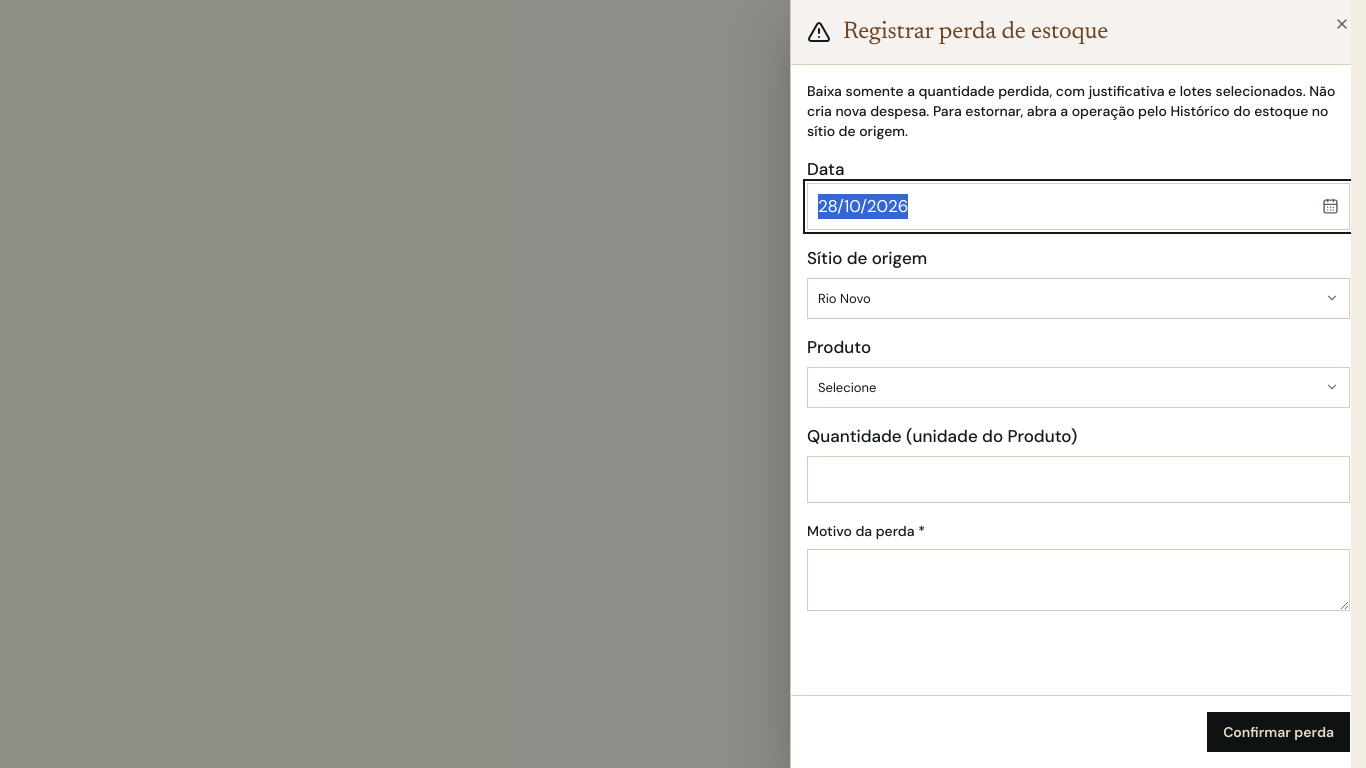
Test: perda de estoque › destaca motivo inválido , foca e conserva os campos
The image size is (1366, 768).
Step 1. Click the dropdown named "Produto" → click(847, 387), box [807,366,1350,408]
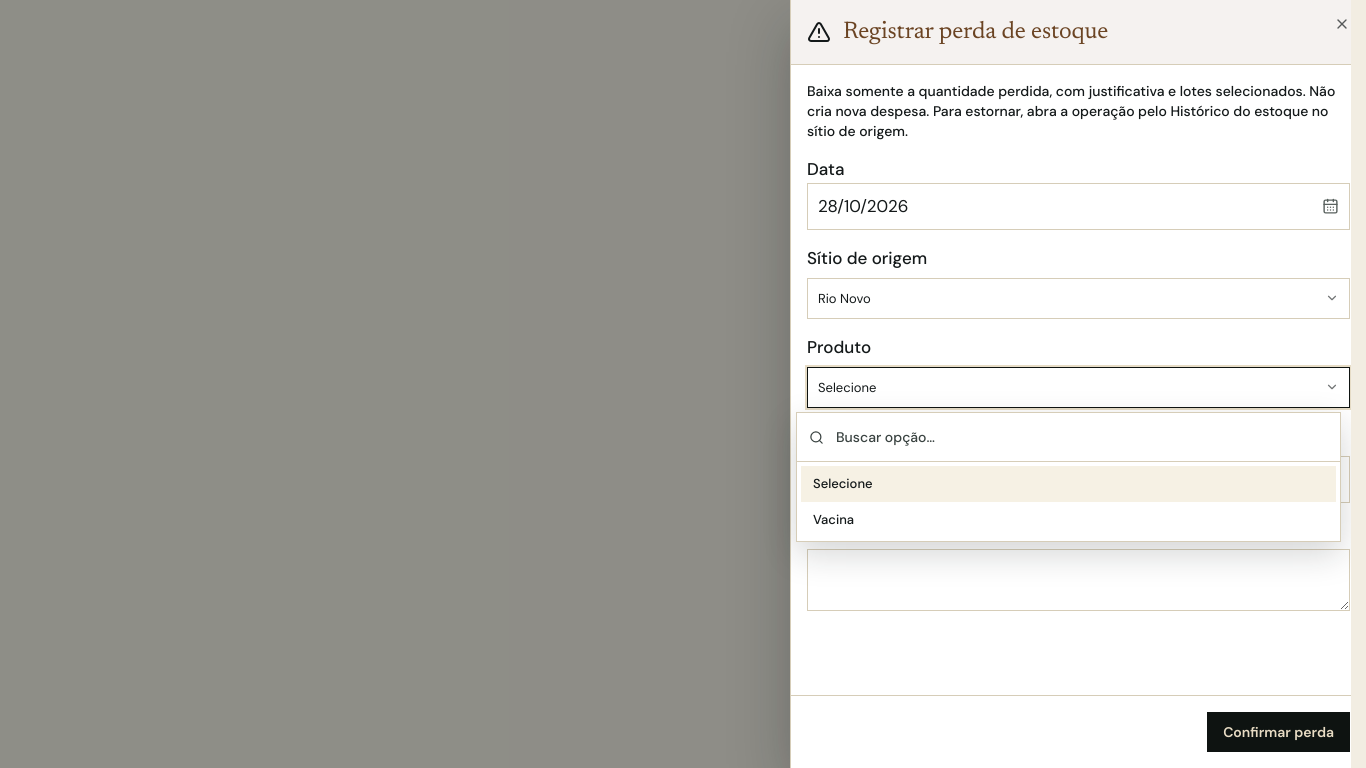
Step 2. Click the option "Vacina" → click(834, 519), box [813,510,854,528]
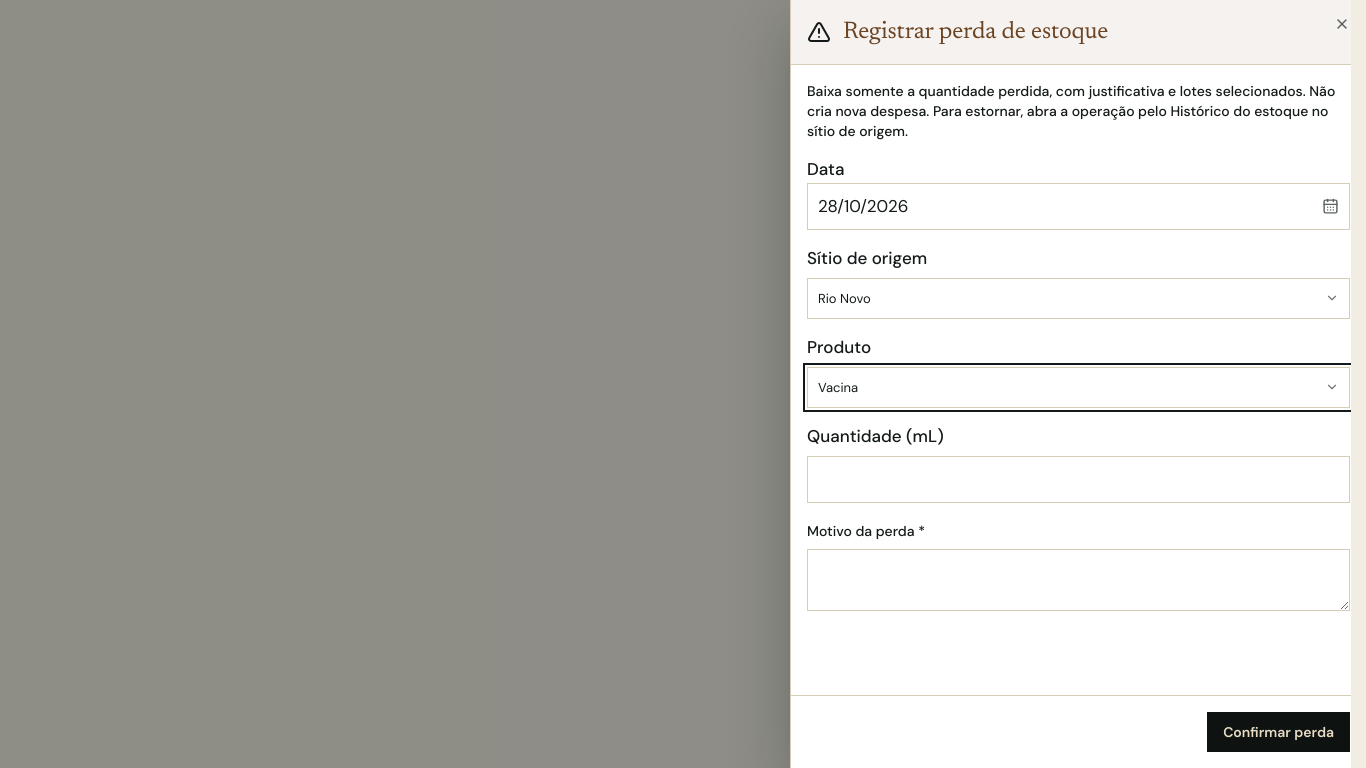
Step 3. Type "2" into the number field labelled "Quantidade (mL)" → (1078, 479), box [807,456,1350,503]
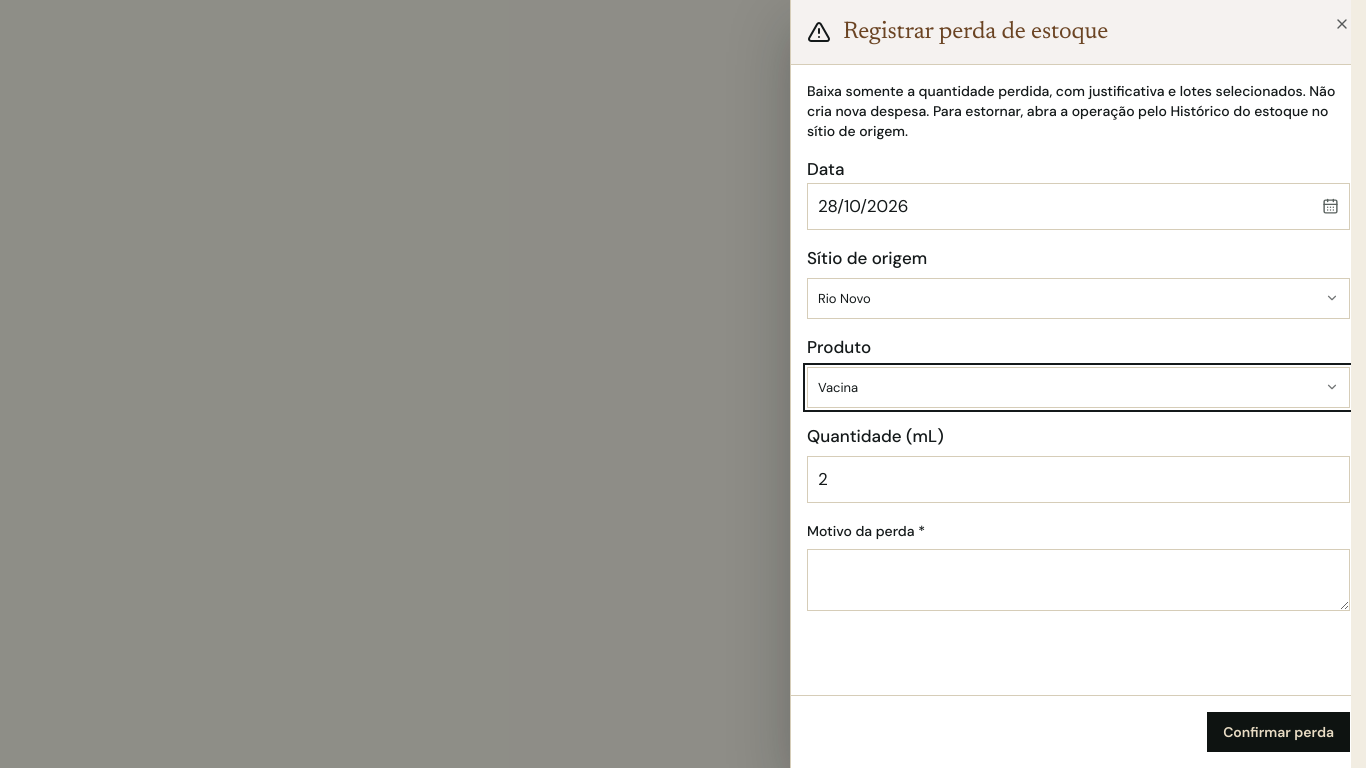
Step 4. Click the button "Confirmar perda" → click(1279, 732), box [1207,712,1350,752]
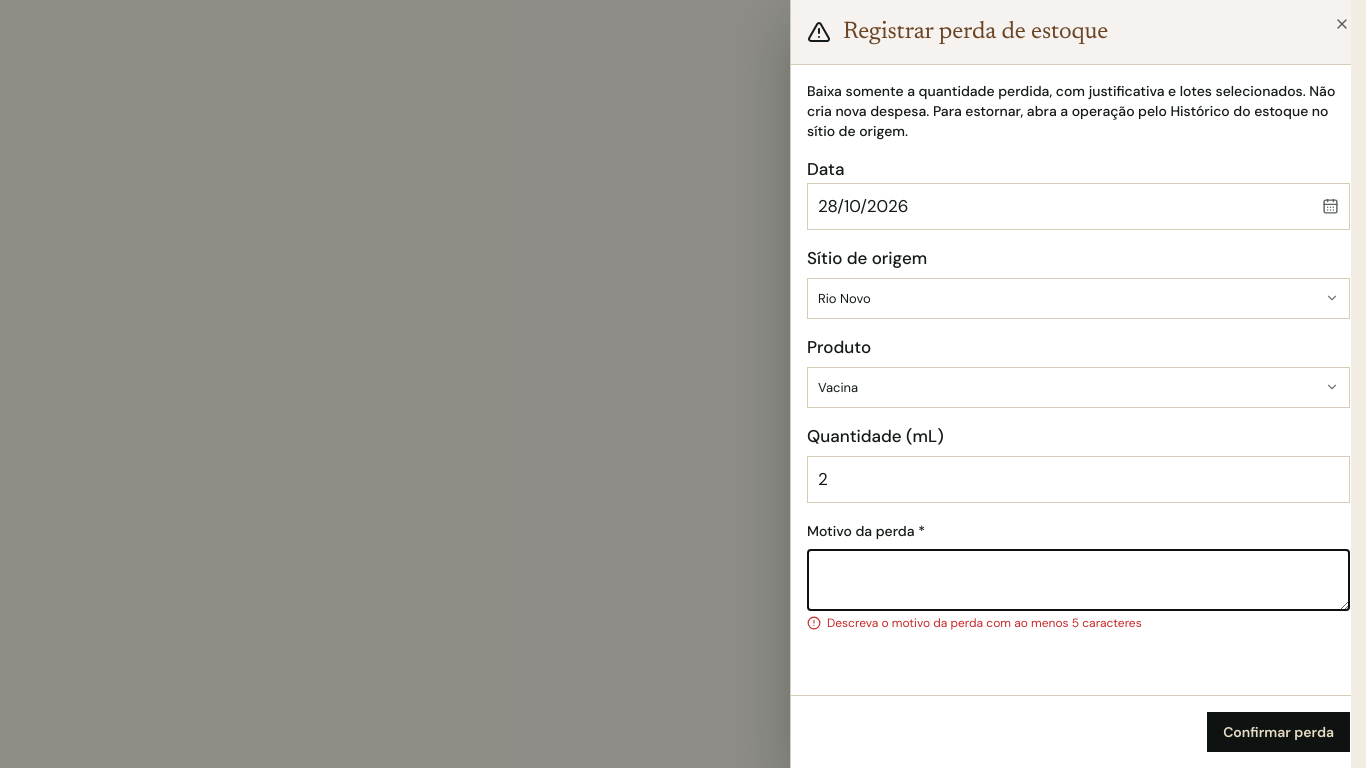
Result: the message shows "motivo da perda" at [827,615,1142,631]
